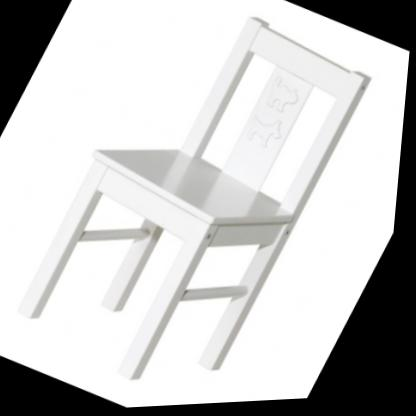Chair: (2, 0, 390, 415)
